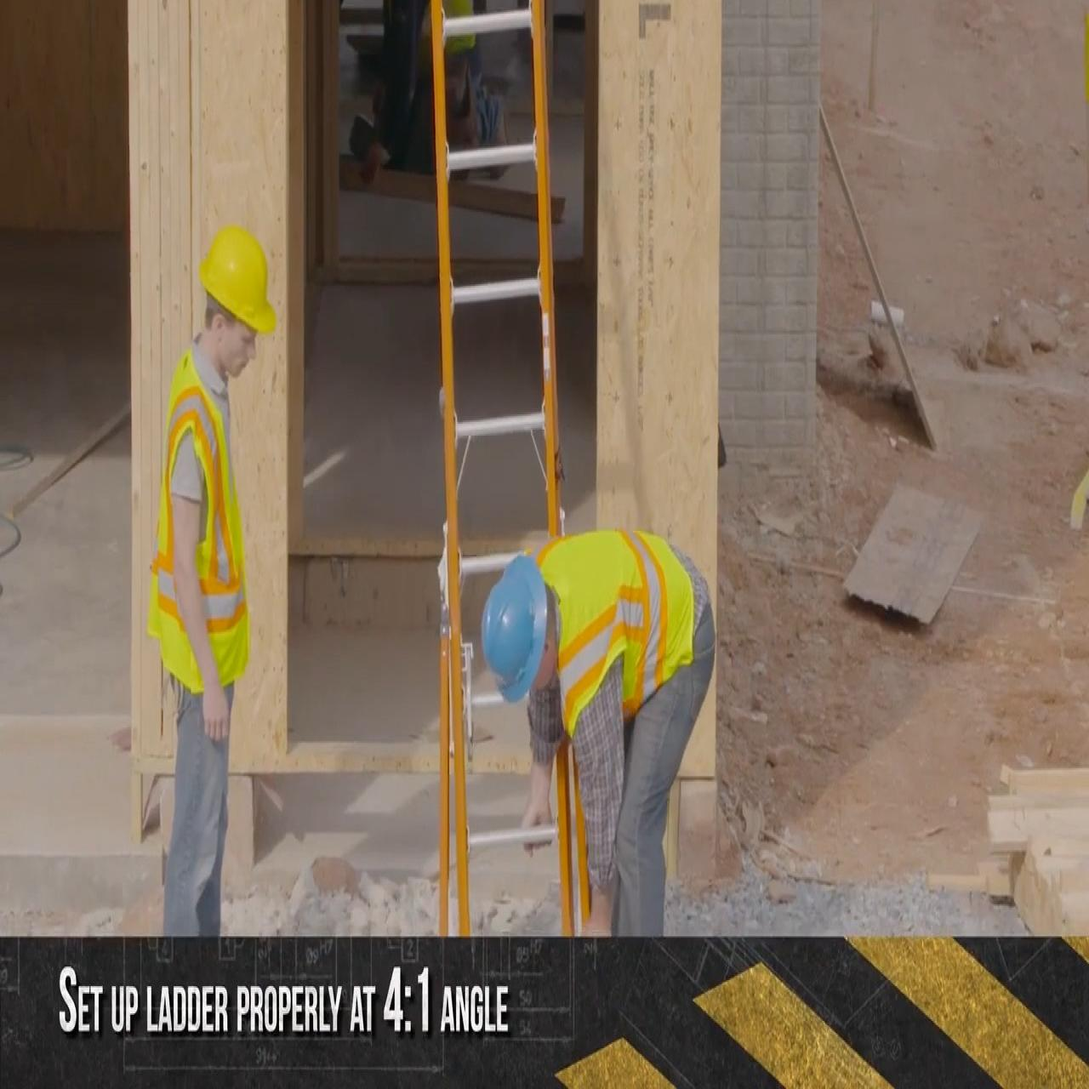Person: (468, 503, 723, 940), (141, 216, 292, 933)
Safety_Vest: (147, 344, 250, 690), (541, 527, 693, 740)
